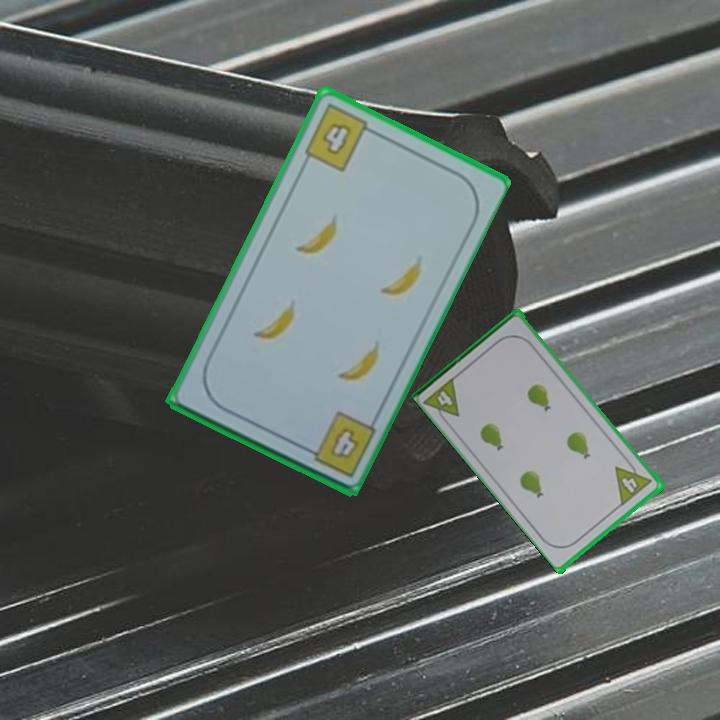4b: (300, 100, 379, 175), (298, 407, 378, 480)
4p: (421, 373, 463, 428), (612, 455, 655, 508)
